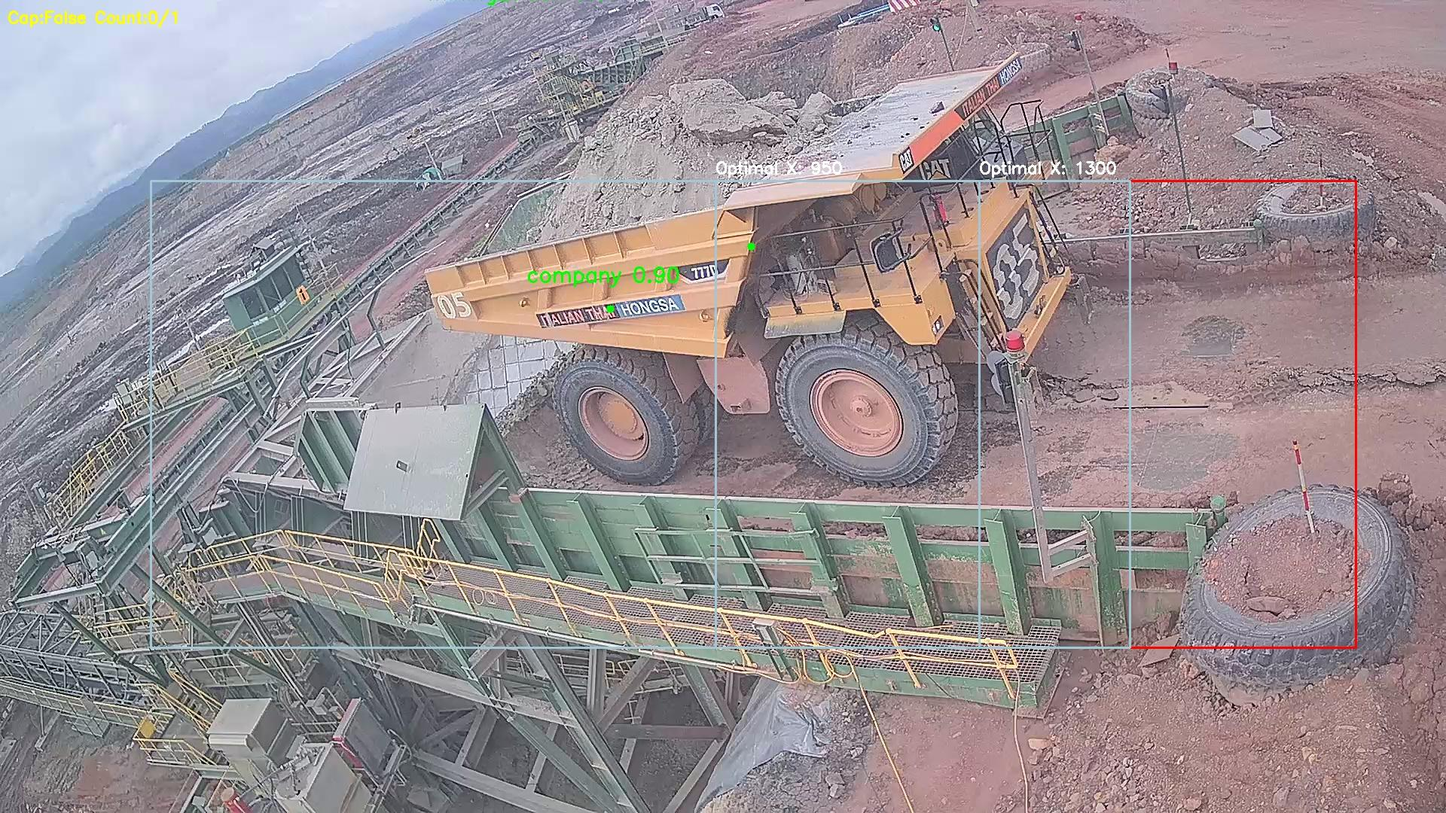company: (534, 295, 693, 331)
full_load: (558, 65, 820, 234)
mining_truck: (410, 43, 1112, 488)
tail_number: (429, 284, 480, 331)
truck_size: (674, 259, 734, 285)
